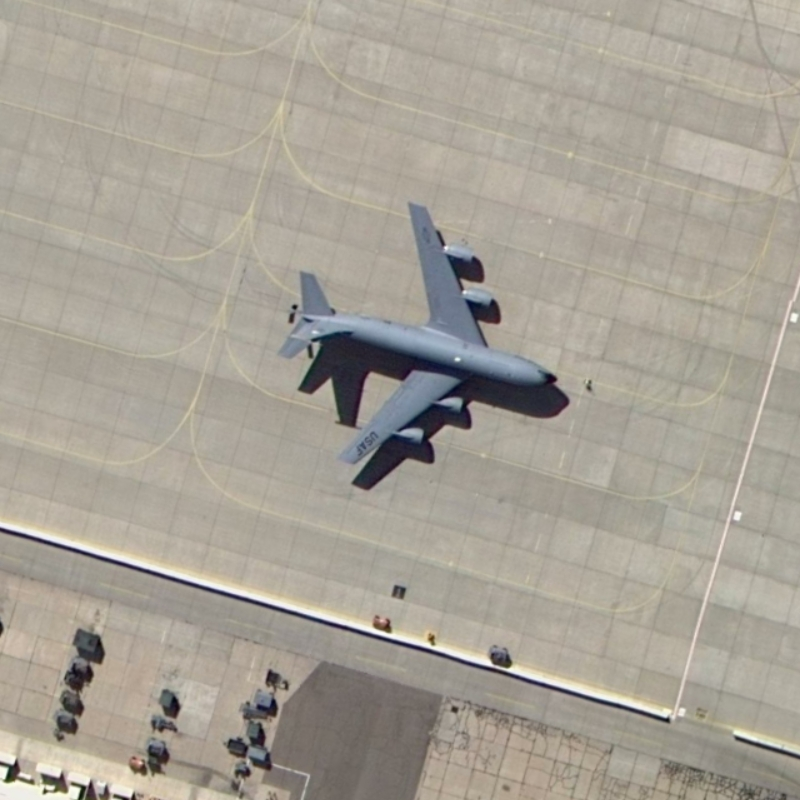A14: (271, 196, 566, 473)
